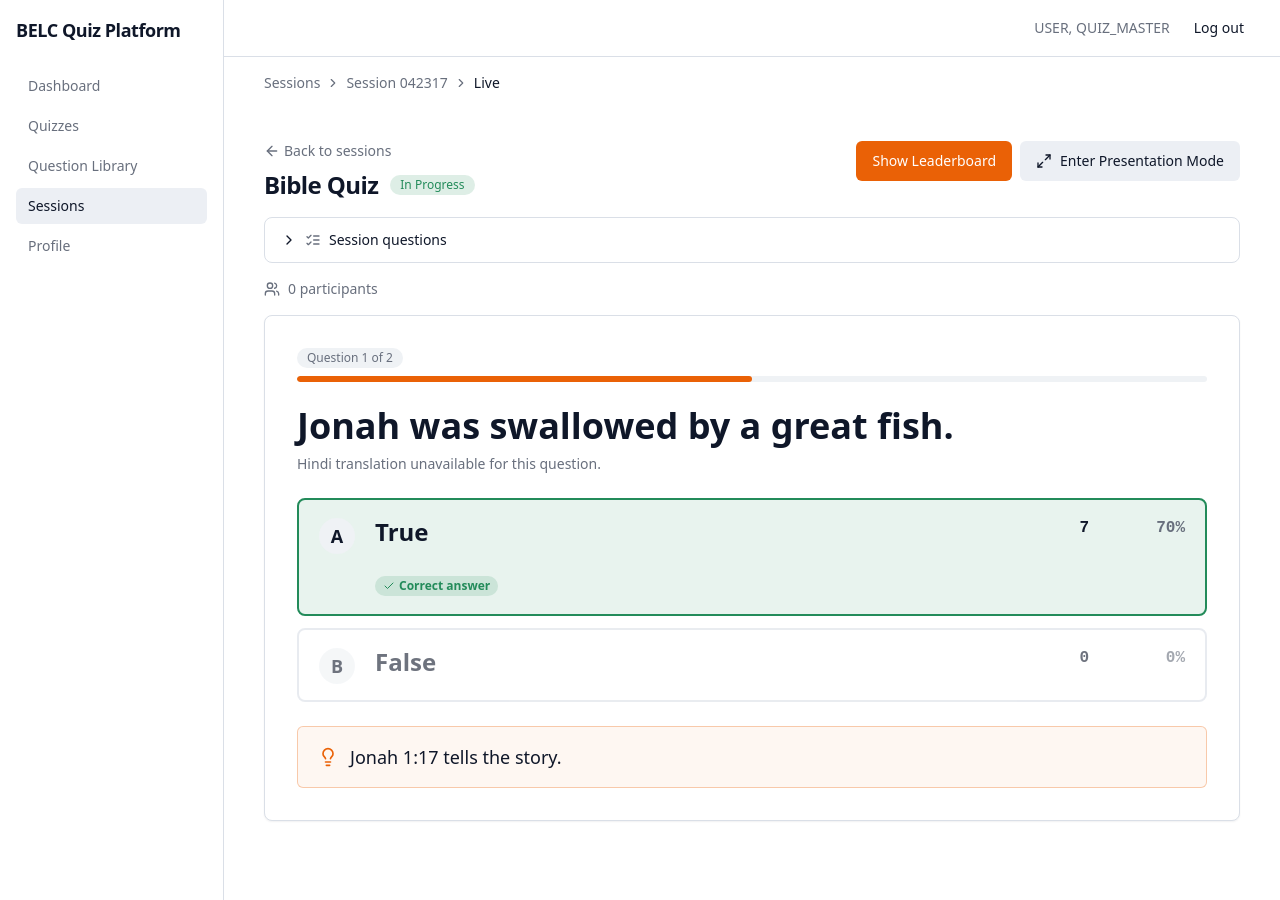
Scenario: SessionLivePage › keeps per-option reveal counts fitting inline in Presentation Mode
The image size is (1280, 900).
Expected: the text "Jonah was swallowed by a great fish." is shown, [297,401,954,450]
Click the button "Enter Presentation Mode" at {"x": 1130, "y": 161}, box [1020,141,1240,181]
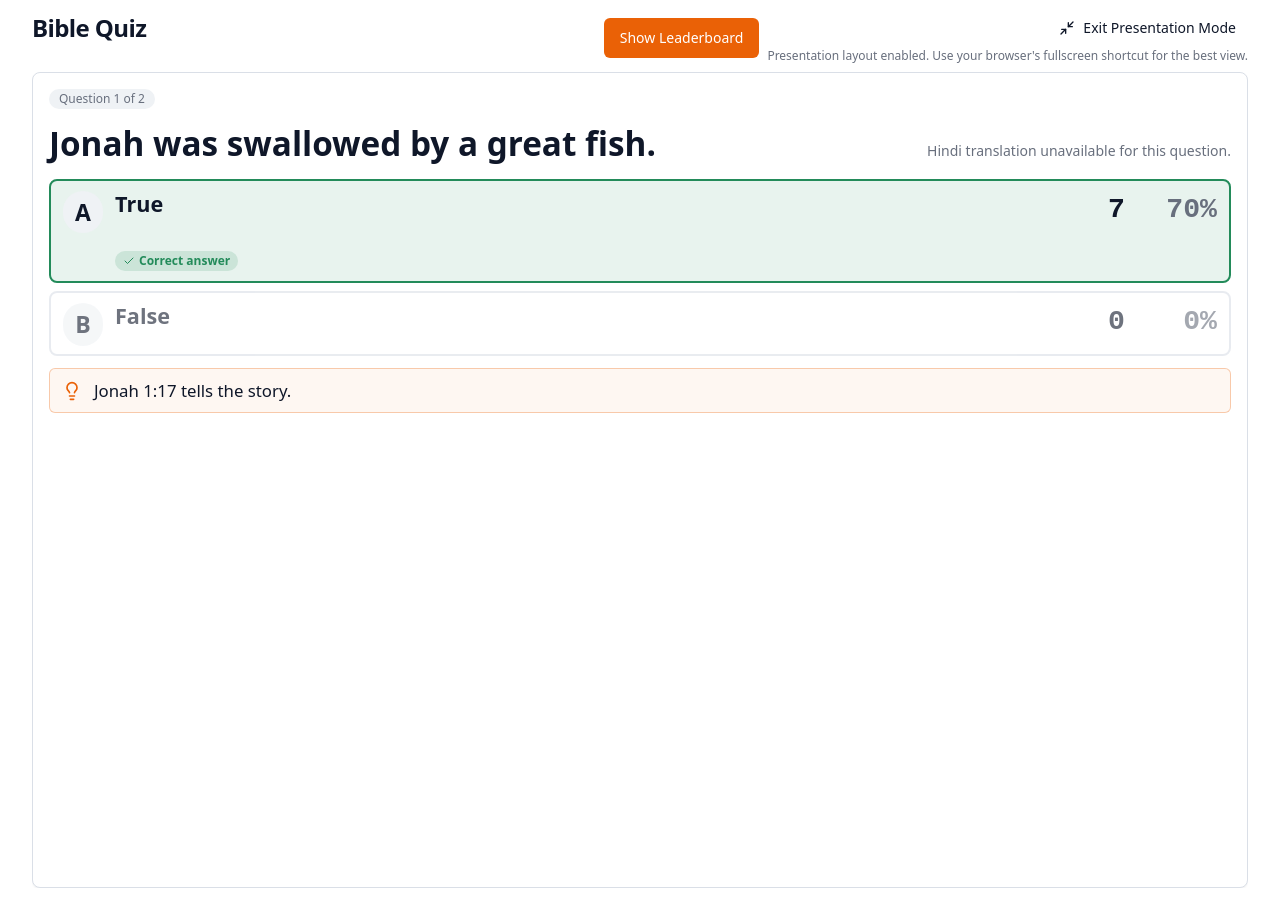
Expected: the text "7" is shown, [1108,194,1125,225]
Expected: the progress indicator is gone
